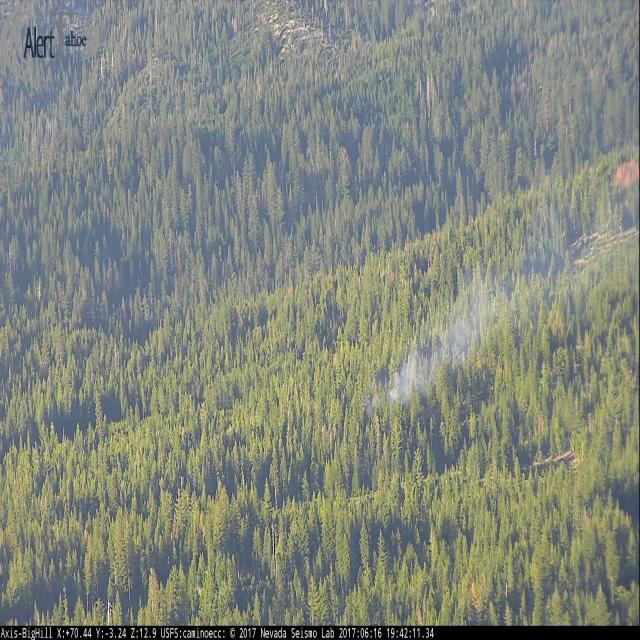smoke: (367, 186, 640, 416)
